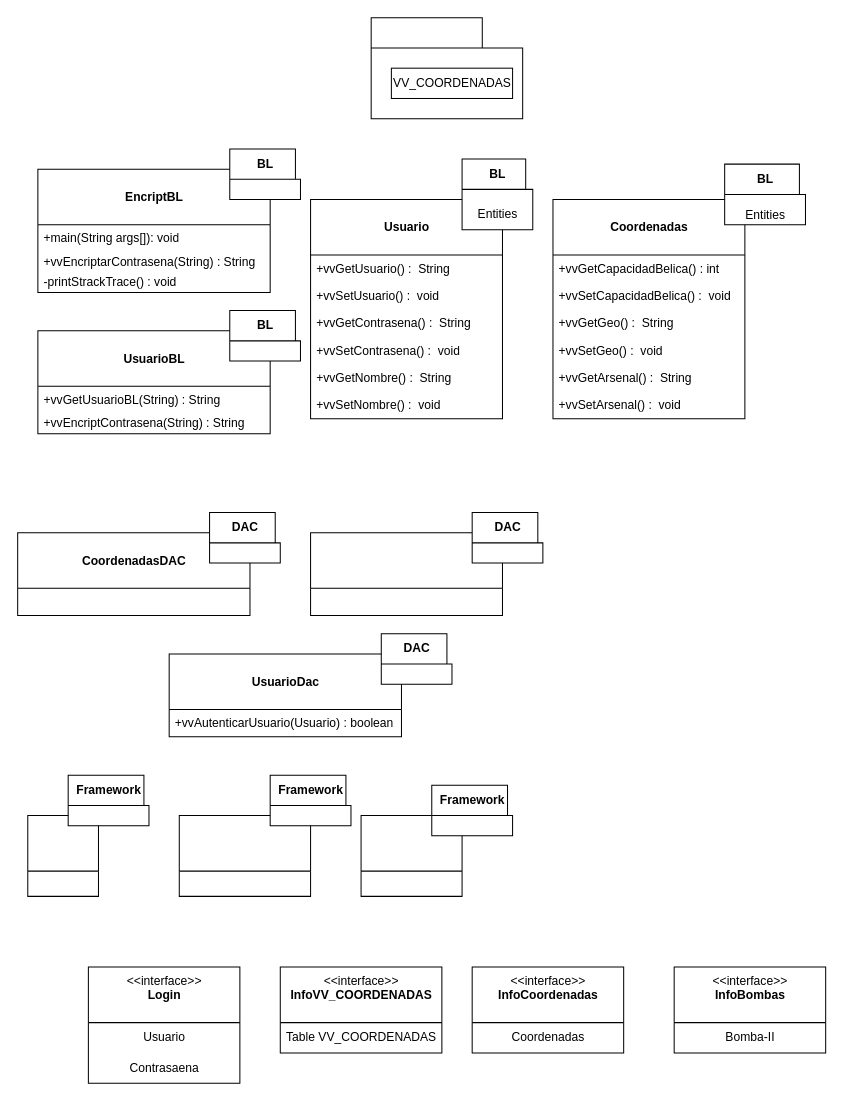
Some shapes in this 843 by 1101 pixel diagram are drawn without their labels. Each missing label, with the centre of its shape:
APP: point 62,855
AppConfiguration: point 244,855
AppException: point 411,855
resources: point 446,68
SQLiteDataHelper: point 406,574
